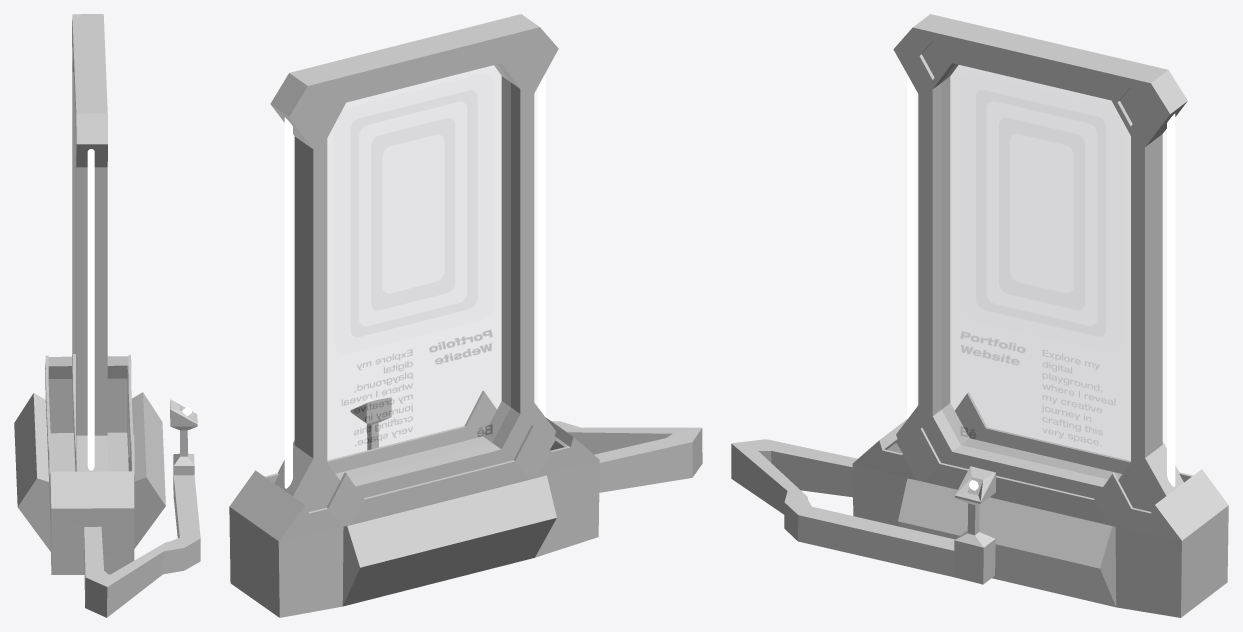
File: ProjectScreenL2.glb
The picture shows the model from 3 angles, left to right: view 1: azimuth 30°, elevation 25°; view 2: azimuth 150°, elevation 25°; view 3: azimuth 270°, elevation 25°; orthographic projection. The views are drawn at different scales.
Visible parts, largest first — view 1: Screen.001; view 2: Screen.001; view 3: Screen.001.
Part boxes in pixels (left/top/right/bottom): Screen.001: left=14, top=14, right=200, bottom=617; Screen.001: left=229, top=14, right=702, bottom=617; Screen.001: left=731, top=14, right=1228, bottom=617.
Bounding box in the file's own units: 24.9 × 47.74 × 41.54.
Materials: 4 (1 with a texture image).
